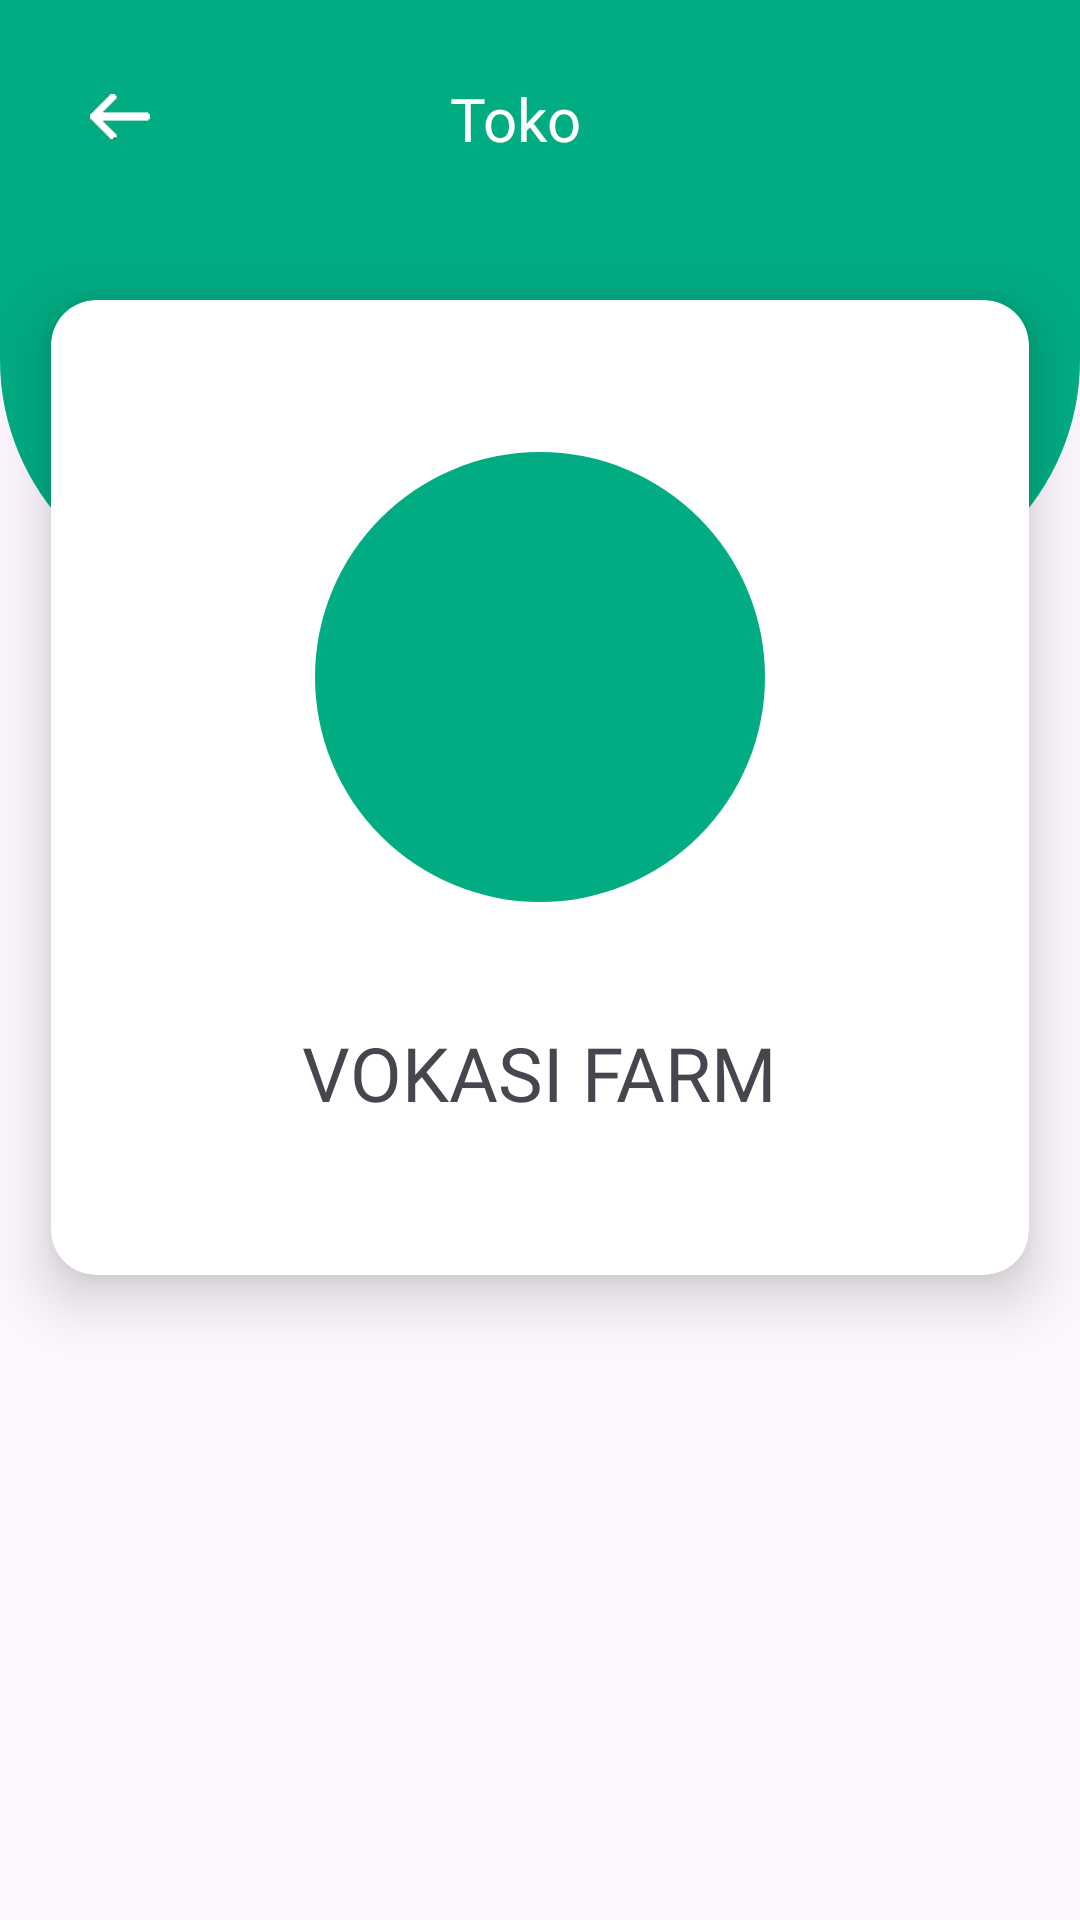

Named icons in this screenshot (1080 × 1920) and their centers, point (x, y):
left: point (120, 116)
